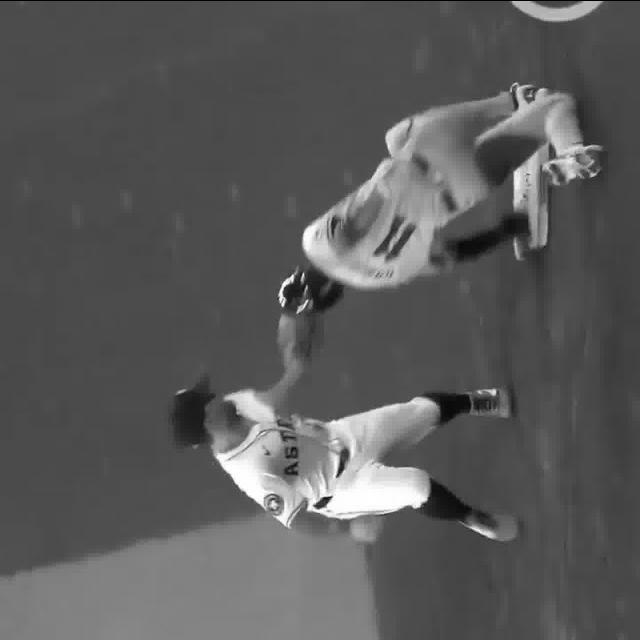base: (512, 147, 550, 250)
baseball_glove: (278, 312, 316, 362)
shoe: (462, 501, 524, 538), (547, 146, 599, 182), (466, 388, 516, 421), (514, 78, 548, 110)
